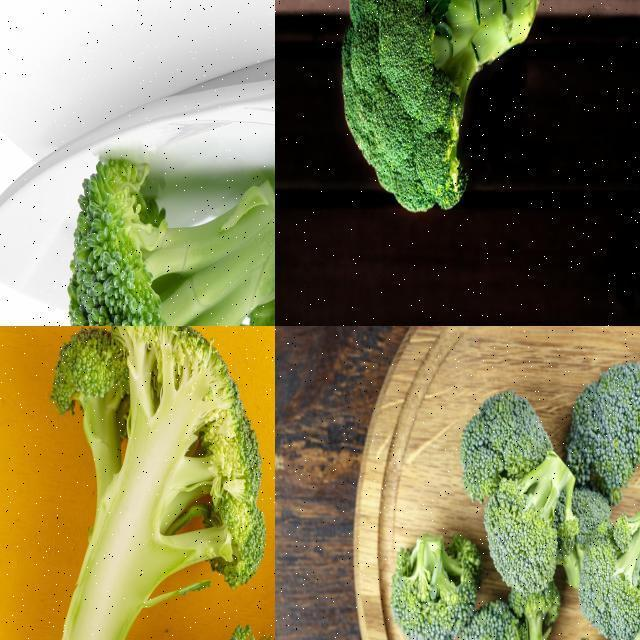broccoli: (43, 326, 272, 639), (340, 0, 543, 216), (67, 153, 274, 325), (482, 448, 578, 596), (384, 525, 484, 639), (565, 357, 639, 498), (580, 485, 639, 639), (461, 609, 555, 639)
